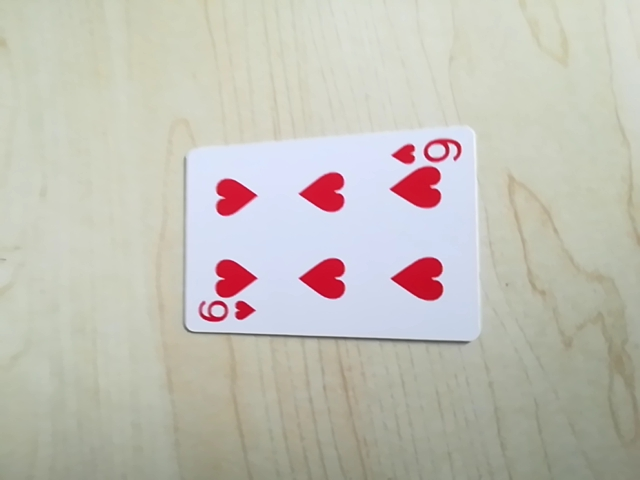hx 6: (390, 131, 465, 167), (194, 298, 259, 330)
